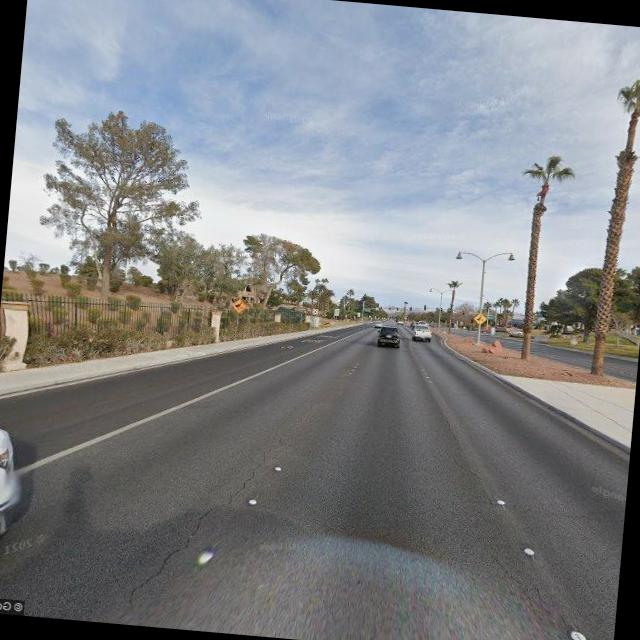pothole: (126, 435, 276, 612)
